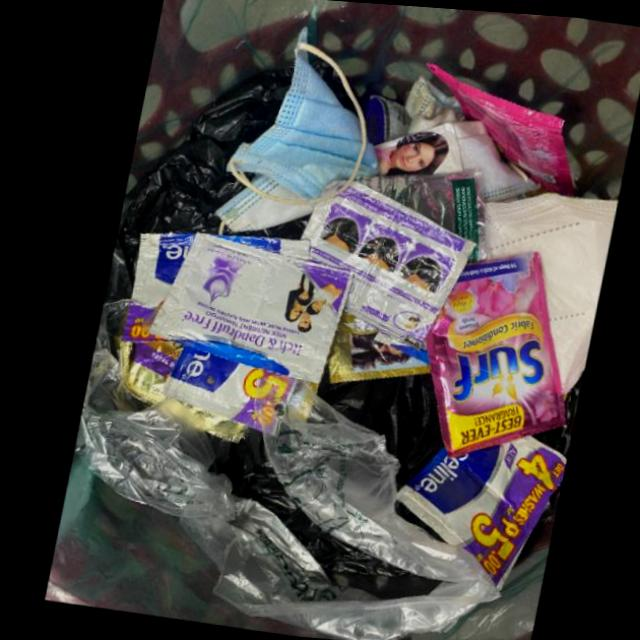goi_nhua_nho: (142, 234, 348, 386), (419, 252, 562, 459), (293, 182, 469, 350), (393, 436, 563, 593), (416, 62, 568, 197), (157, 348, 258, 433), (116, 235, 188, 343)
khau_trang: (208, 44, 371, 234), (476, 192, 610, 396)
